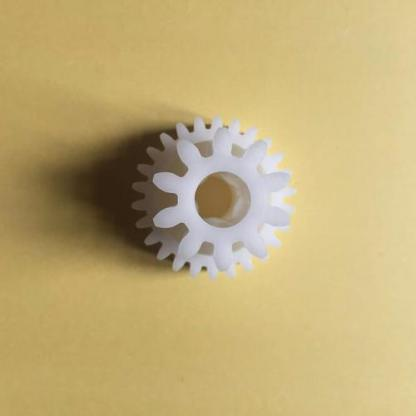FOD: (128, 115, 298, 282), (149, 127, 293, 278)
